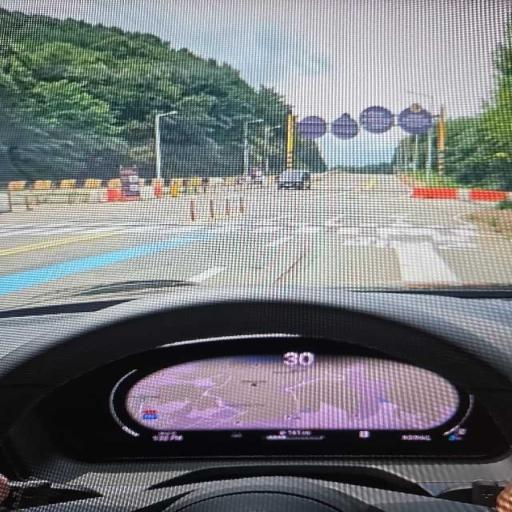car: (278, 170, 311, 189)
lane: (0, 175, 511, 307)
